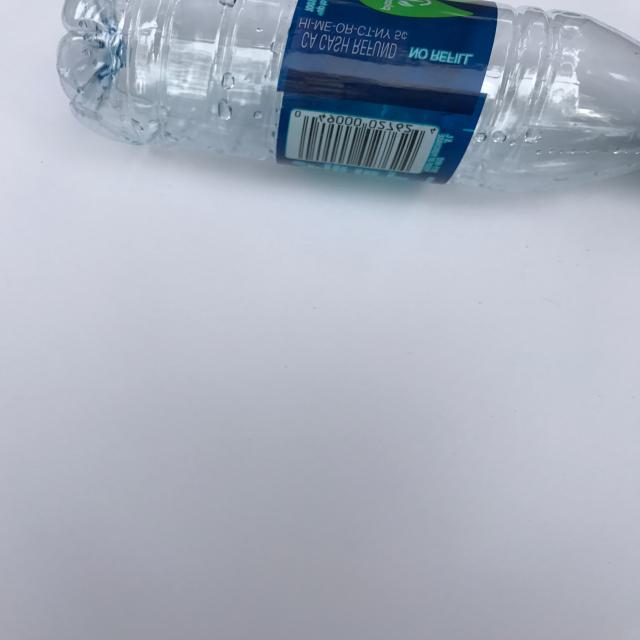plastic: (56, 0, 640, 193)
